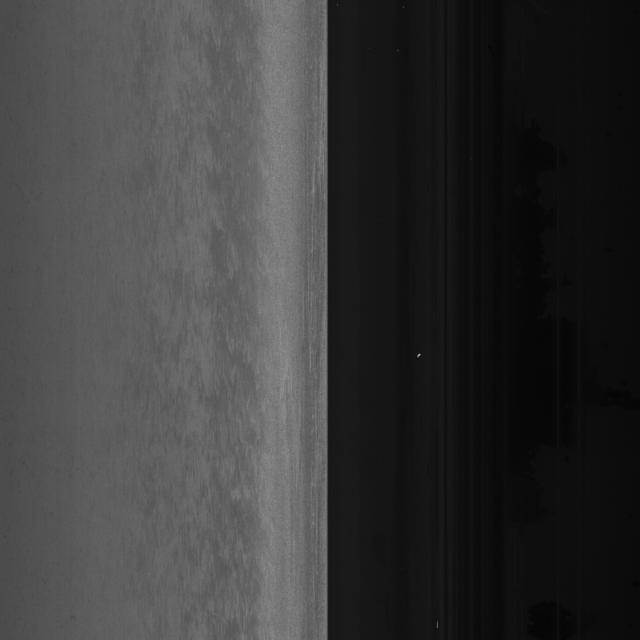inclusion: (226, 145, 284, 494)
